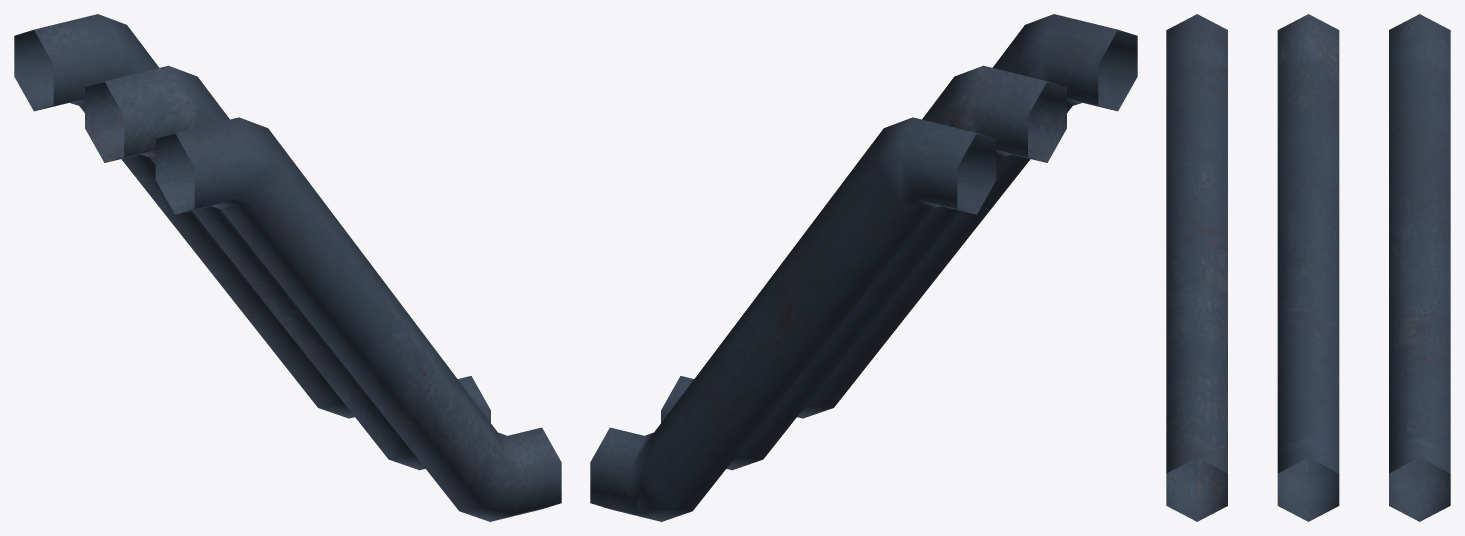
The model's file is PIpe3_Courner7_L1.fbx.
The picture shows the model from 3 angles, left to right: view 1: azimuth 30°, elevation 25°; view 2: azimuth 150°, elevation 25°; view 3: azimuth 270°, elevation 25°; orthographic projection. The views are drawn at different scales.
Parts seen in each view (by area): view 1: PIpe3_Courner7_L1; view 2: PIpe3_Courner7_L1; view 3: PIpe3_Courner7_L1.
Boxes of the visible parts, bbox=[...] form: PIpe3_Courner7_L1: bbox=[14, 14, 561, 521]; PIpe3_Courner7_L1: bbox=[590, 14, 1137, 521]; PIpe3_Courner7_L1: bbox=[1166, 14, 1450, 521].
Bounding box in the file's own units: 50 × 60.66 × 42.56.
